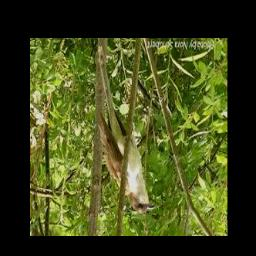Cuckoo: (98, 45, 156, 214)
